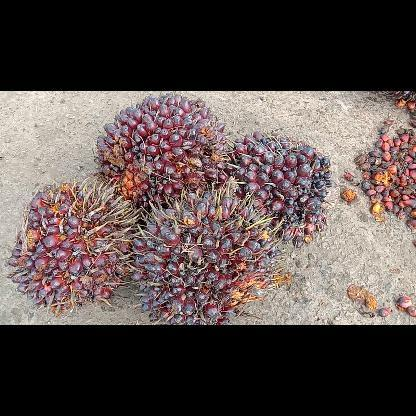Kurang masak: (129, 186, 290, 324), (7, 178, 139, 318), (218, 129, 334, 250)
TBS masak: (91, 90, 231, 208)
